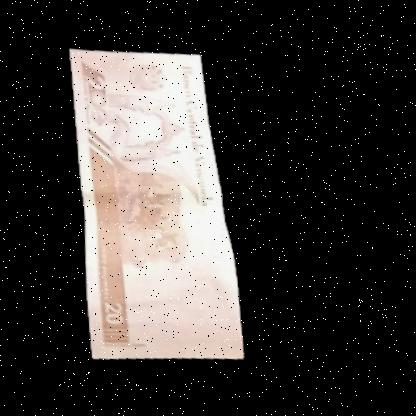twenty-back-vef: (57, 39, 252, 374)
